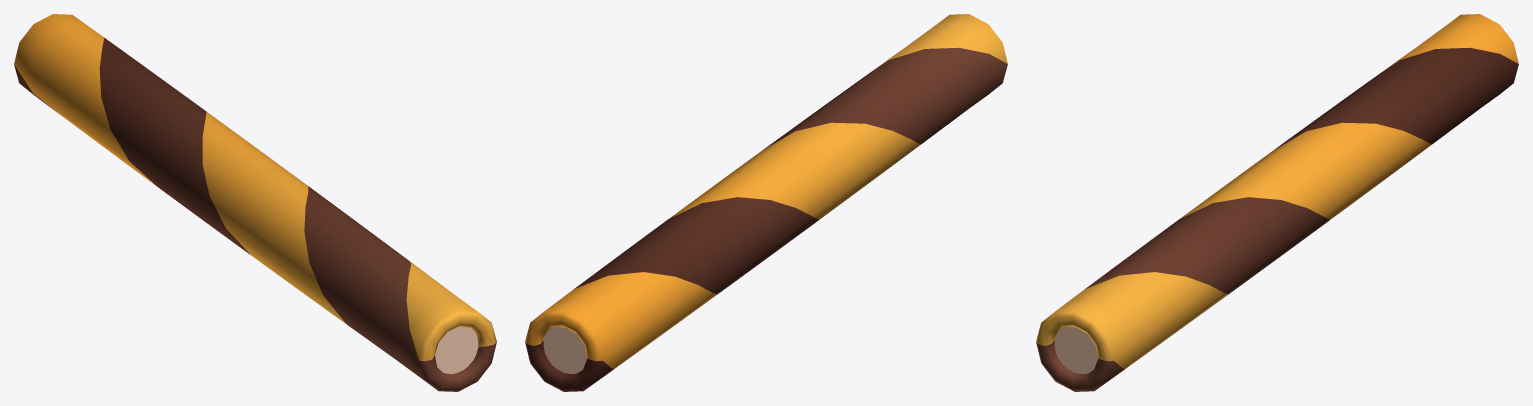
Rendered from Cake_05.glb.
3 renders of one model, left to right at view 1: azimuth 30°, elevation 25°; view 2: azimuth 150°, elevation 25°; view 3: azimuth 330°, elevation 25°, orthographic.
Visible parts, largest first — view 1: Cake_05; view 2: Cake_05; view 3: Cake_05.
Boxes of the visible parts, x1=… form: Cake_05: x1=14, y1=14, x2=496, y2=391; Cake_05: x1=525, y1=14, x2=1007, y2=391; Cake_05: x1=1036, y1=14, x2=1518, y2=391.
Size of the model in its own units: 0.741 by 0.741 by 6.75.
1 material, 1 textured.
